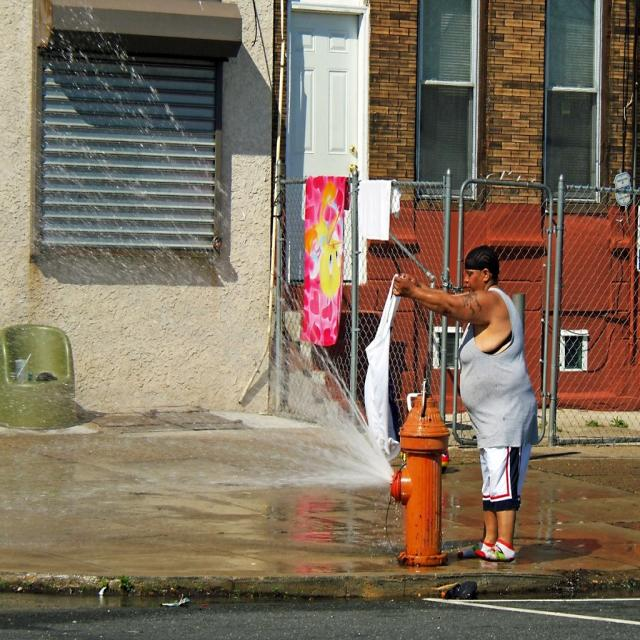fire_hydrant: (392, 390, 447, 566)
